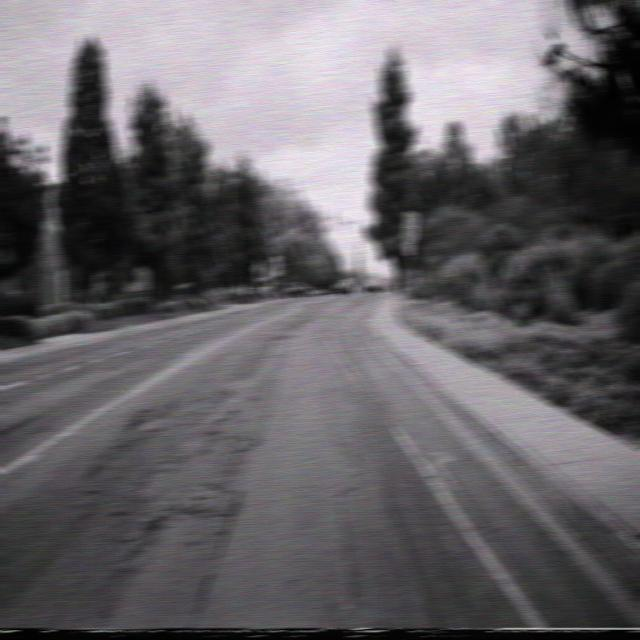speedLimit35: (401, 208, 419, 242)
